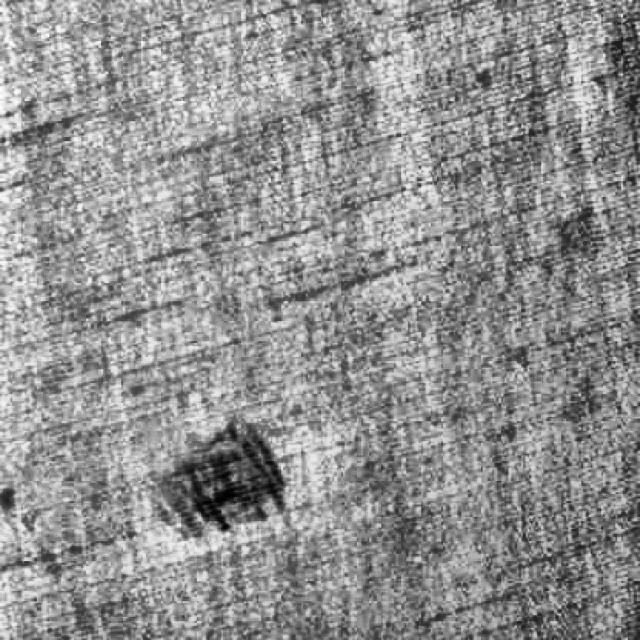oil_spot: (142, 408, 302, 555)
